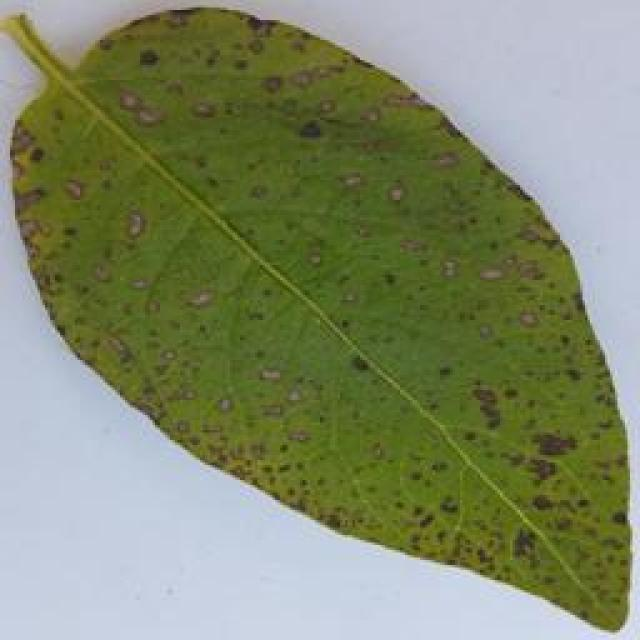Potato_Early_Blight: (12, 18, 640, 638)
